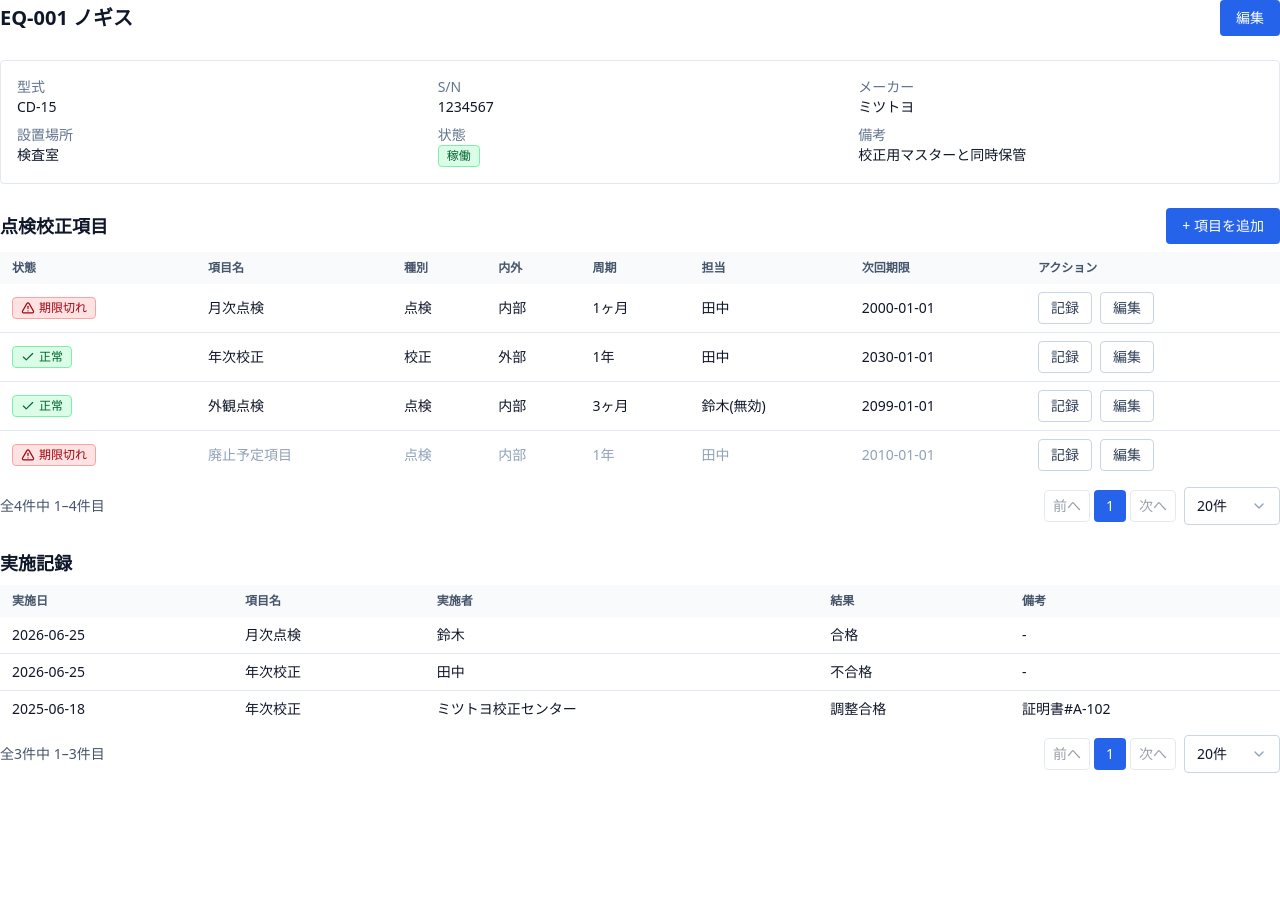
Test case: EquipmentDetail: ServiceRecordModal起動 › 行の「記録」で対象項目がプリセットされたモーダルが開く
What coordinates should you click on to do the following:
click the button "記録" in the row of "外部"
I would click on:
 (1065, 357)
Its box is x1=1038 y1=341 x2=1092 y2=373.
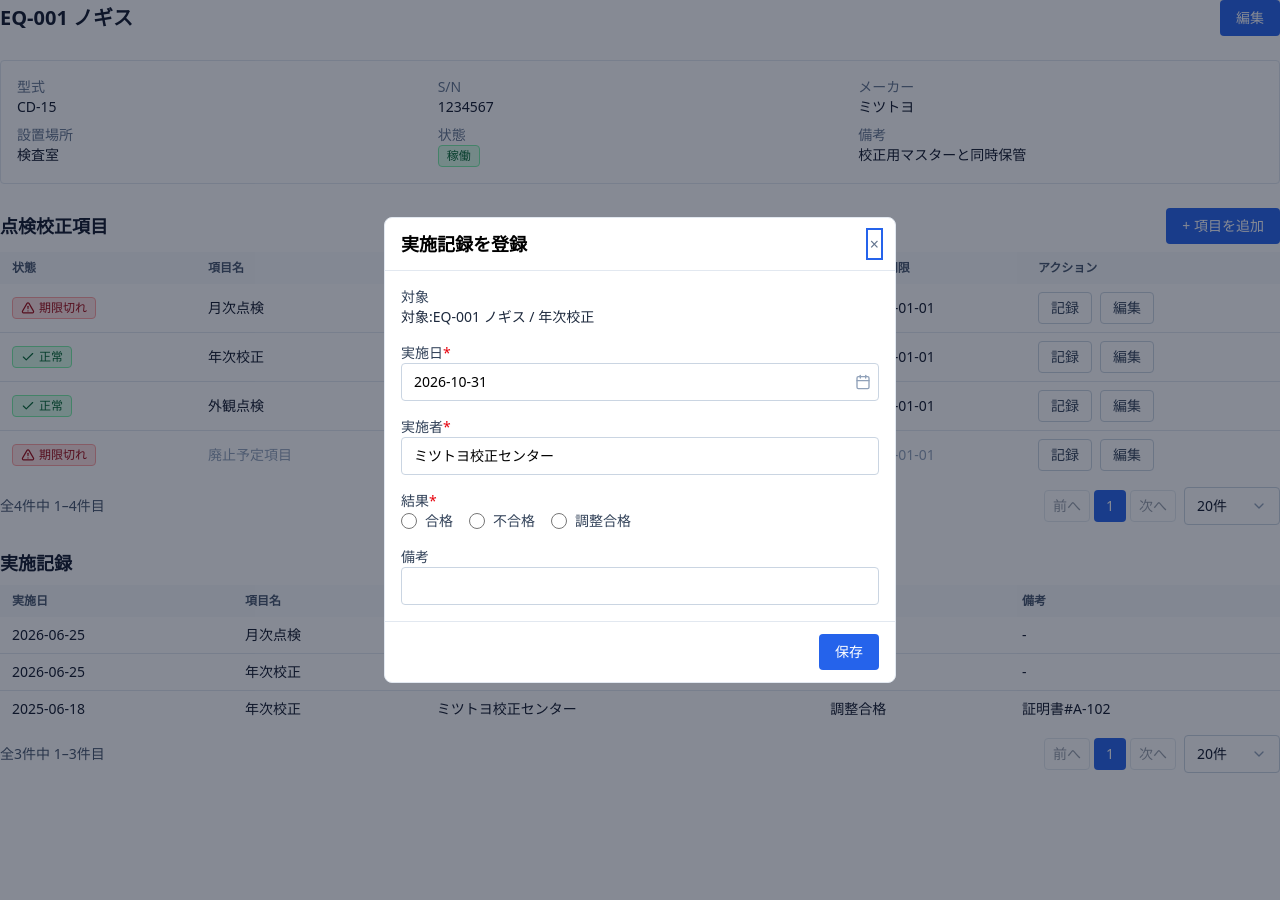
Check: the text "対象:EQ-001 ノギス / 年次校正" is shown, box x1=401 y1=307 x2=594 y2=326
